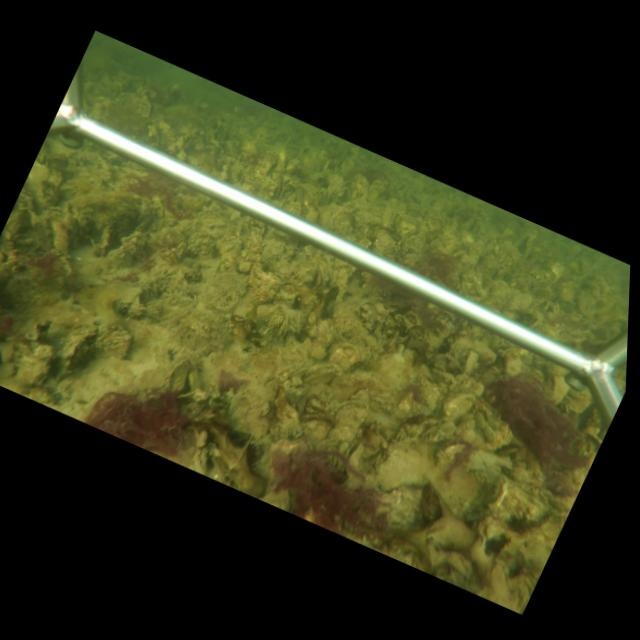Oyster-Closed: (375, 443, 436, 492), (329, 399, 369, 451), (115, 283, 153, 327), (326, 343, 363, 372), (301, 363, 341, 385), (309, 261, 329, 294), (462, 348, 481, 377)
Oyster-Indeterminate: (53, 322, 100, 385), (98, 323, 134, 360), (441, 392, 478, 423), (502, 347, 523, 378)
Oyster-Open: (344, 437, 363, 468), (298, 412, 331, 428), (270, 172, 286, 199)
